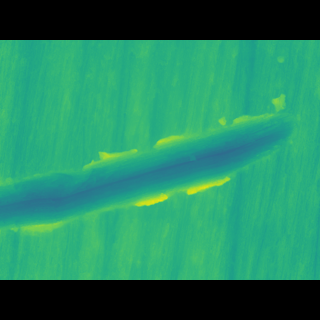Loch: (0, 116, 304, 218)
